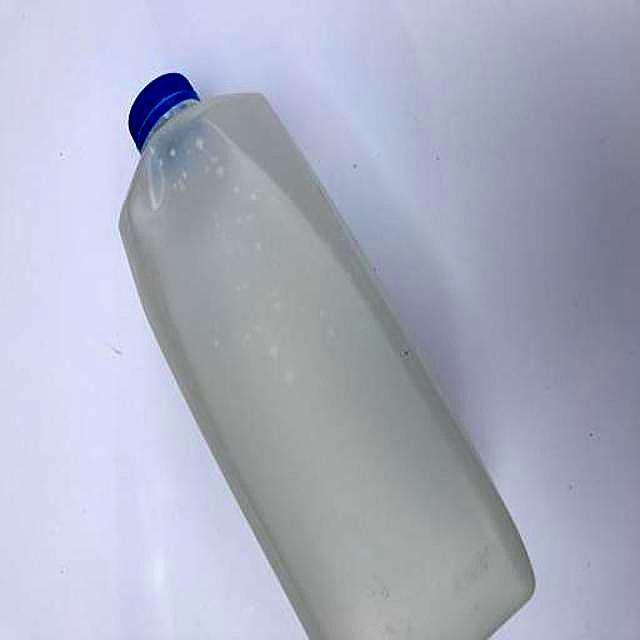Non-biodegradable: (55, 29, 559, 640)
